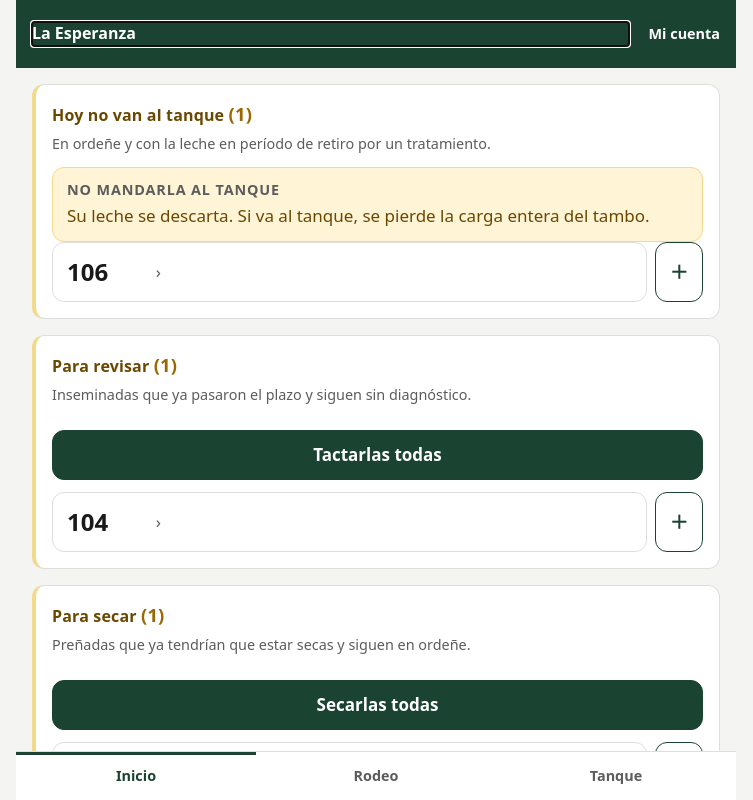
varios tambos › cambiar de tambo vuelve a la lista y no cierra la sesión
The image size is (753, 800).
Check: the heading "La Esperanza" is shown, box x1=32 y1=22 x2=136 y2=44
Click the link "Mi cuenta": {"x": 684, "y": 33} x1=648 y1=24 x2=720 y2=43
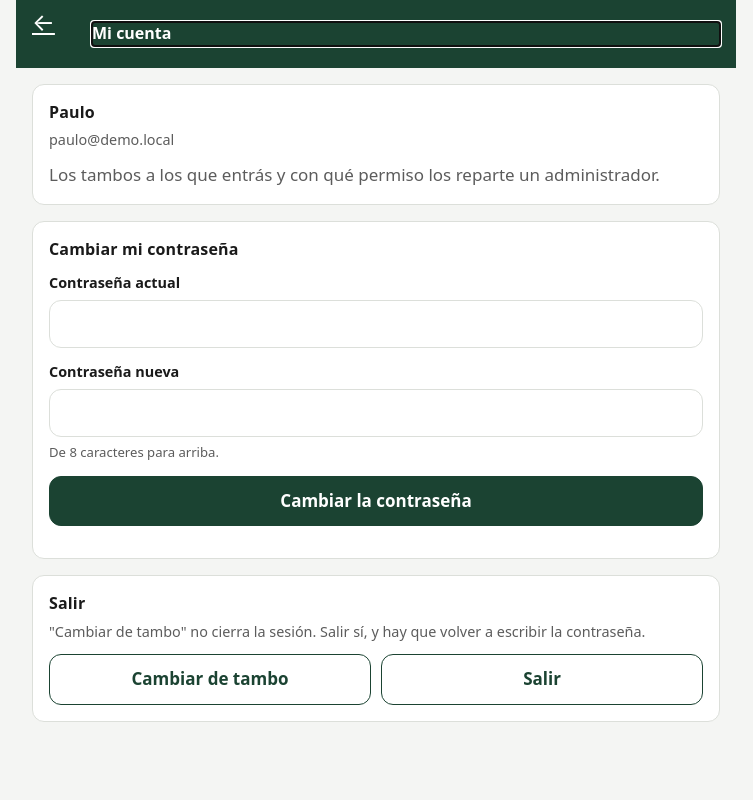
Click the button "Cambiar de tambo": {"x": 210, "y": 680} x1=49 y1=654 x2=371 y2=705
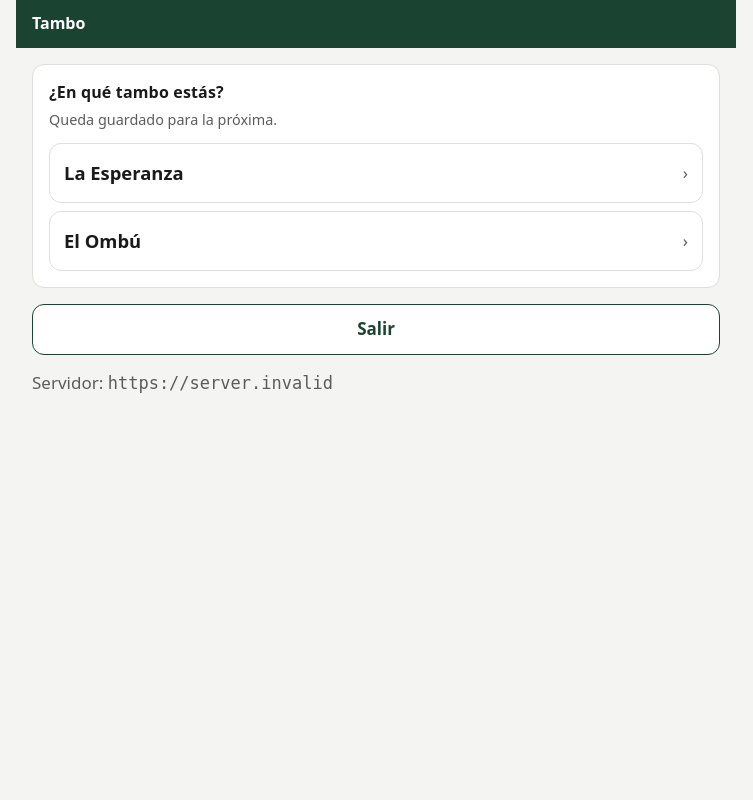
Check: the heading "¿En qué tambo estás?" is shown, box x1=49 y1=81 x2=224 y2=103
